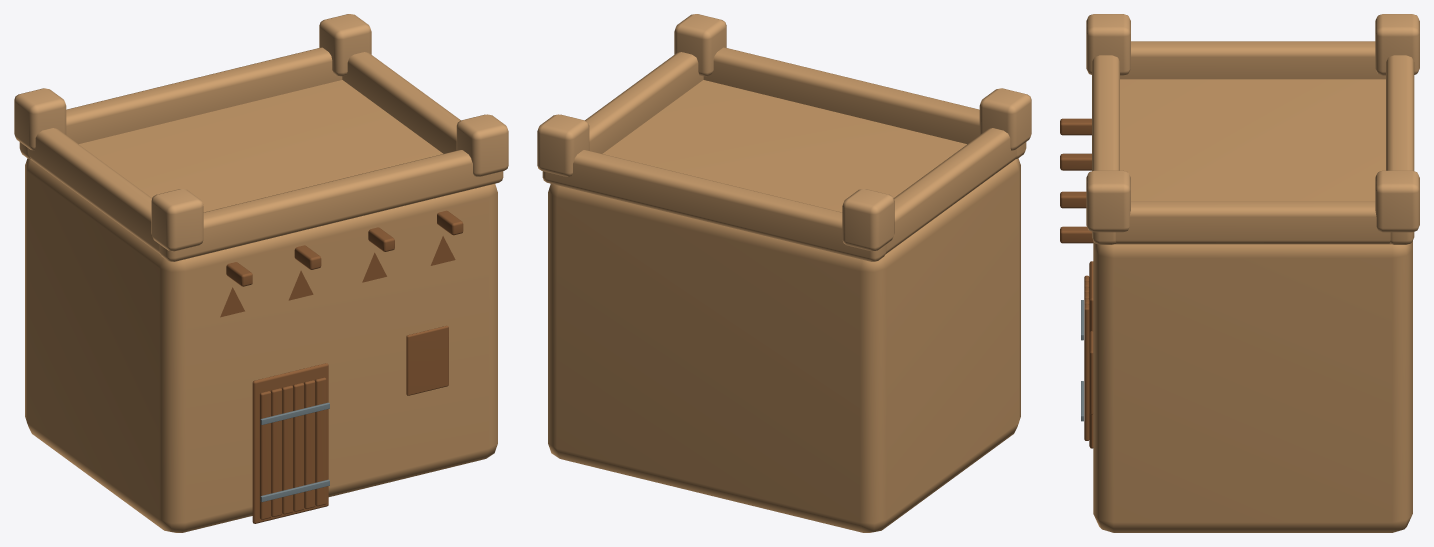
File: NJD-13.glb
3 renders of one model, left to right at view 1: azimuth 30°, elevation 25°; view 2: azimuth 150°, elevation 25°; view 3: azimuth 270°, elevation 25°, orthographic. The views are drawn at different scales.
Visible parts, largest first — view 1: mud house, roof parapet, roof parapet.001, parapet side, parapet side.001, corner finial, door recess, window recess, corner finial.002, corner finial.001, corner finial.003, door board (+5 smaller); view 2: mud house, roof parapet.001, roof parapet, parapet side, parapet side.001, corner finial.001, corner finial.003, corner finial, corner finial.002; view 3: mud house, parapet side.001, parapet side, roof parapet.001, roof parapet, corner finial.003, corner finial.002, corner finial, corner finial.001, door board.005, door recess, rafter end (+3 smaller).
Boxes of the visible parts, left/top/right/bottom form: mud house: left=25, top=80, right=497, bottom=532; roof parapet: left=159, top=150, right=503, bottom=261; roof parapet.001: left=19, top=47, right=342, bottom=158; parapet side: left=29, top=128, right=160, bottom=254; parapet side.001: left=342, top=52, right=460, bottom=153; corner finial: left=151, top=189, right=203, bottom=251; door recess: left=252, top=363, right=328, bottom=523; window recess: left=406, top=325, right=448, bottom=395; corner finial.002: left=456, top=114, right=508, bottom=176; corner finial.001: left=14, top=88, right=66, bottom=150; corner finial.003: left=319, top=14, right=371, bottom=76; door board: left=259, top=391, right=271, bottom=519; mud house: left=548, top=80, right=1020, bottom=532; roof parapet.001: left=542, top=150, right=886, bottom=261; roof parapet: left=703, top=47, right=1026, bottom=158; parapet side: left=885, top=128, right=1016, bottom=254; parapet side.001: left=585, top=52, right=703, bottom=153; corner finial.001: left=842, top=189, right=894, bottom=251; corner finial.003: left=537, top=114, right=589, bottom=176; corner finial: left=979, top=88, right=1031, bottom=150; corner finial.002: left=674, top=14, right=726, bottom=76; mud house: left=1093, top=79, right=1412, bottom=532; parapet side.001: left=1115, top=201, right=1390, bottom=244; parapet side: left=1120, top=41, right=1385, bottom=79; roof parapet.001: left=1386, top=55, right=1414, bottom=244; roof parapet: left=1092, top=55, right=1119, bottom=244; corner finial.003: left=1375, top=170, right=1419, bottom=232; corner finial.002: left=1086, top=170, right=1130, bottom=232; corner finial: left=1086, top=14, right=1130, bottom=75; corner finial.001: left=1375, top=14, right=1419, bottom=75; door board.005: left=1084, top=304, right=1089, bottom=440; door recess: left=1089, top=261, right=1093, bottom=448; rafter end: left=1060, top=118, right=1091, bottom=135.
Size of the model in its own units: 3.25 by 3.07 by 2.81.
